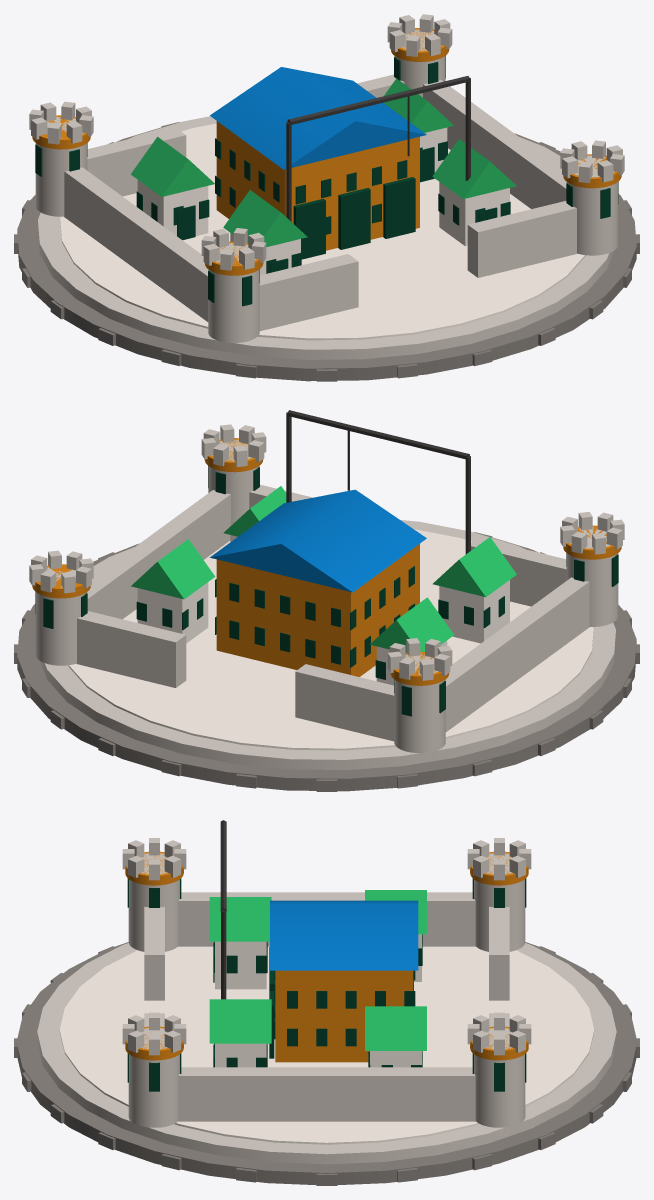
The model's file is city_workorders.glb.
The picture shows the model from 3 angles, top to bottom: view 1: azimuth 30°, elevation 25°; view 2: azimuth 150°, elevation 25°; view 3: azimuth 270°, elevation 25°; orthographic projection.
Visible parts, largest first — view 1: city-floor_grey, curtain-wall_white, corner-tower_white, lower-plinth_stone, upper-plinth_white, workshop_green, gate-wall_white, workshop_white, courtyard-building_green, workshop-door_darkgreen, courtyard-building_white, courtyard-building_darkgreen (+6 smaller); view 2: curtain-wall_white, city-floor_grey, corner-tower_white, lower-plinth_stone, upper-plinth_white, workshop_white, workshop_green, courtyard-building_green, courtyard-building_white, gate-wall_white, workshop_darkgreen, plinth-tooth_stone (+5 smaller); view 3: city-floor_grey, curtain-wall_white, corner-tower_white, upper-plinth_white, lower-plinth_stone, workshop_green, courtyard-building_green, workshop_white, courtyard-building_white, plinth-tooth_stone, corner-tower_stone, gate-wall_white (+5 smaller).
Part boxes in pixels (<box>): city-floor_grey: <box>60,123,585,340</box>; curtain-wall_white: <box>64,74,566,321</box>; corner-tower_white: <box>29,14,624,342</box>; lower-plinth_stone: <box>17,123,636,381</box>; upper-plinth_white: <box>38,116,613,359</box>; workshop_green: <box>210,67,426,169</box>; gate-wall_white: <box>259,201,577,331</box>; workshop_white: <box>216,121,419,250</box>; courtyard-building_green: <box>130,78,516,247</box>; workshop-door_darkgreen: <box>293,177,415,259</box>; courtyard-building_white: <box>137,127,509,275</box>; courtyard-building_darkgreen: <box>136,141,510,273</box>; curtain-wall_white: <box>76,490,589,741</box>; city-floor_grey: <box>68,529,593,750</box>; corner-tower_white: <box>29,424,624,753</box>; lower-plinth_stone: <box>17,533,636,791</box>; upper-plinth_white: <box>40,520,615,769</box>; workshop_white: <box>216,544,419,676</box>; workshop_green: <box>210,489,426,592</box>; courtyard-building_green: <box>131,486,516,652</box>; courtyard-building_white: <box>137,535,509,685</box>; gate-wall_white: <box>249,484,566,606</box>; workshop_darkgreen: <box>215,566,414,667</box>; plinth-tooth_stone: <box>14,532,639,791</box>; city-floor_grey: <box>59,946,594,1144</box>; curtain-wall_white: <box>178,892,509,1121</box>; corner-tower_white: <box>122,838,531,1127</box>; upper-plinth_white: <box>37,943,616,1164</box>; lower-plinth_stone: <box>16,942,637,1185</box>; workshop_green: <box>270,900,418,970</box>; courtyard-building_green: <box>209,890,426,1050</box>; workshop_white: <box>275,970,413,1062</box>; courtyard-building_white: <box>215,934,421,1067</box>; plinth-tooth_stone: <box>14,946,639,1185</box>; corner-tower_stone: <box>125,851,528,1060</box>; gate-wall_white: <box>144,906,164,1026</box>.
Size of the model in its own units: 23.59 by 7.93 by 23.59.
